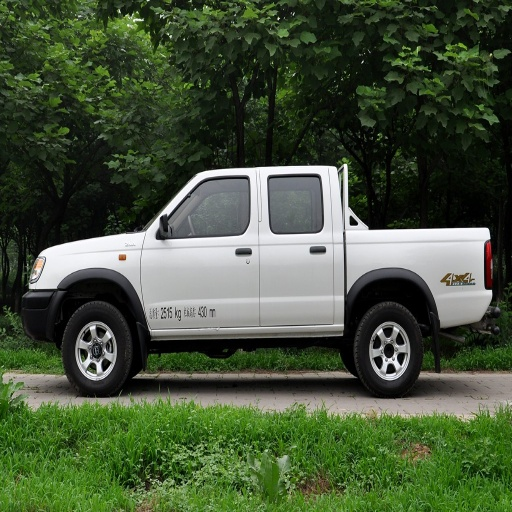back_left_door: (259, 172, 335, 324)
front_left_door: (142, 175, 260, 332)
trunk: (327, 218, 486, 332)
